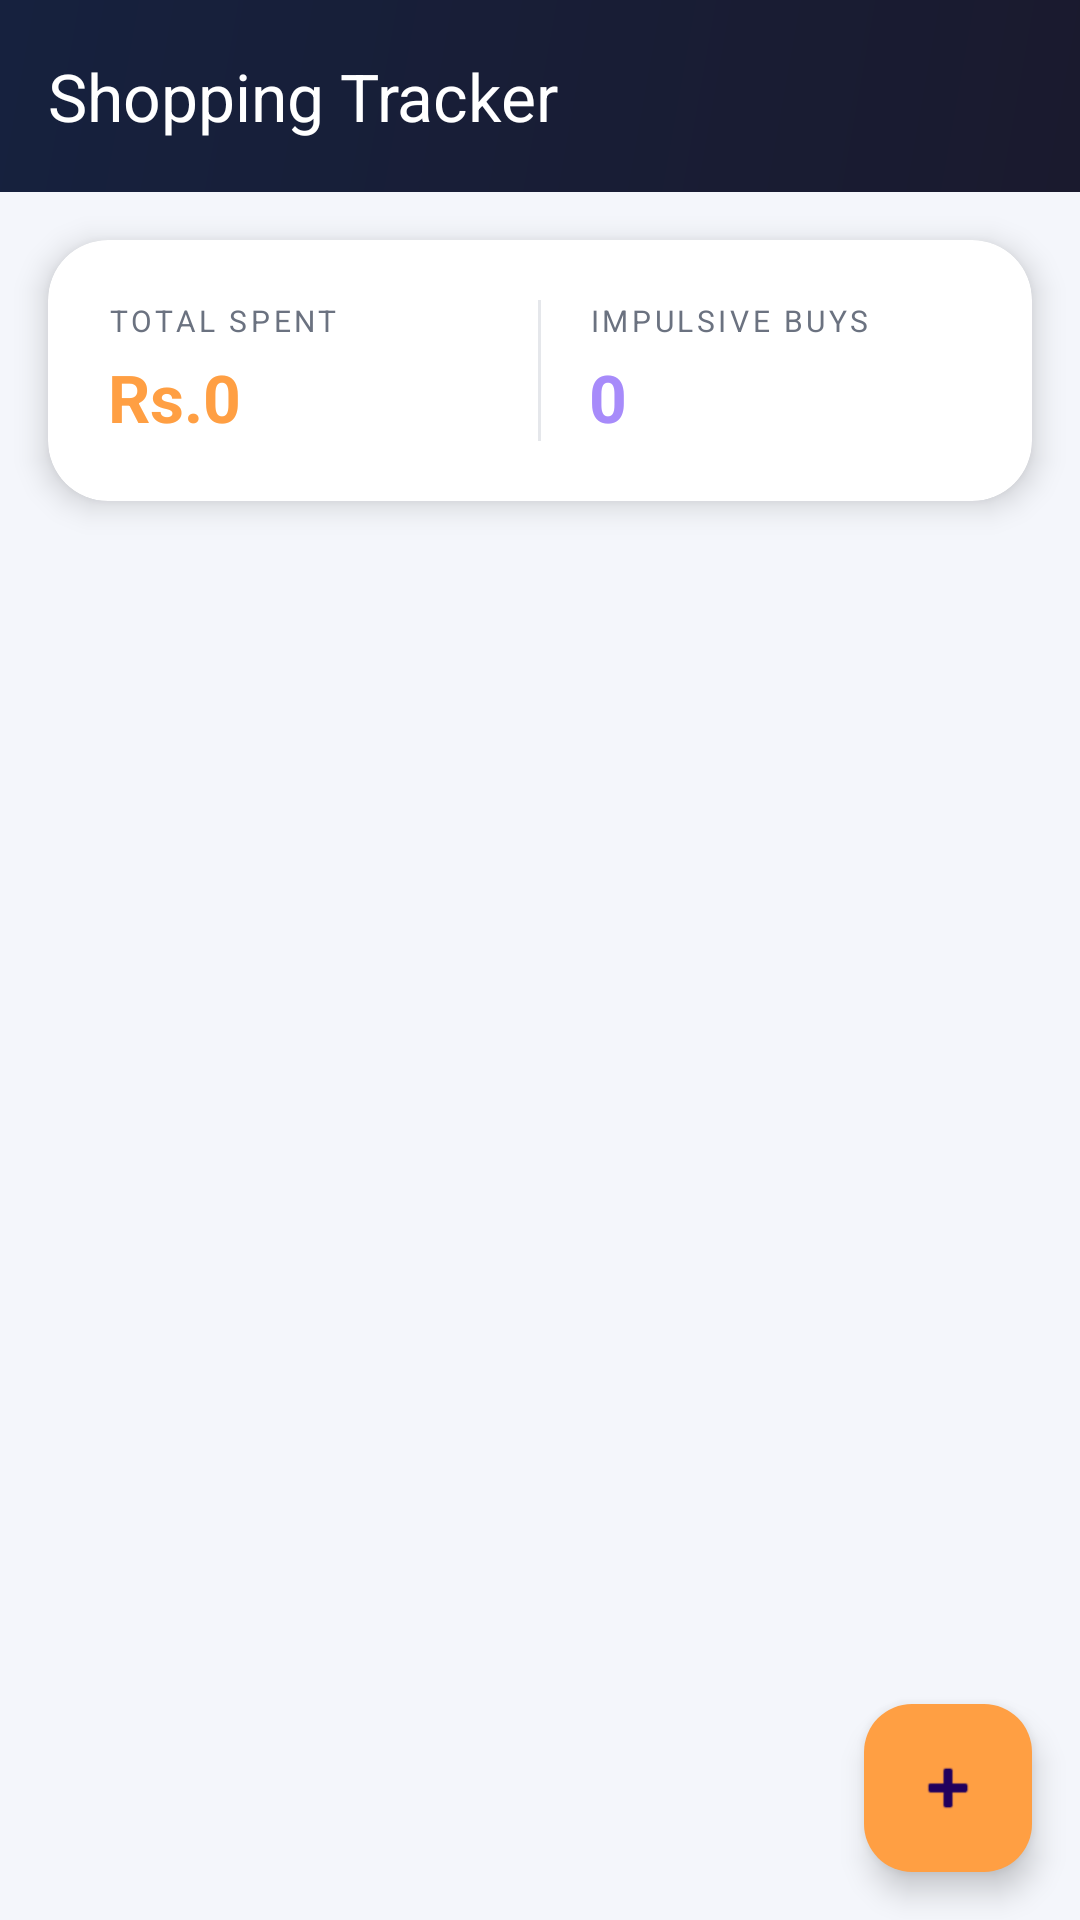

Locate icon controls on the screen. Image size 1080×1920, boxes as {"left": x1, "top": y1, "right": x2, "bottom": y2}.
Add Shopping: {"left": 864, "top": 1704, "right": 1032, "bottom": 1872}
